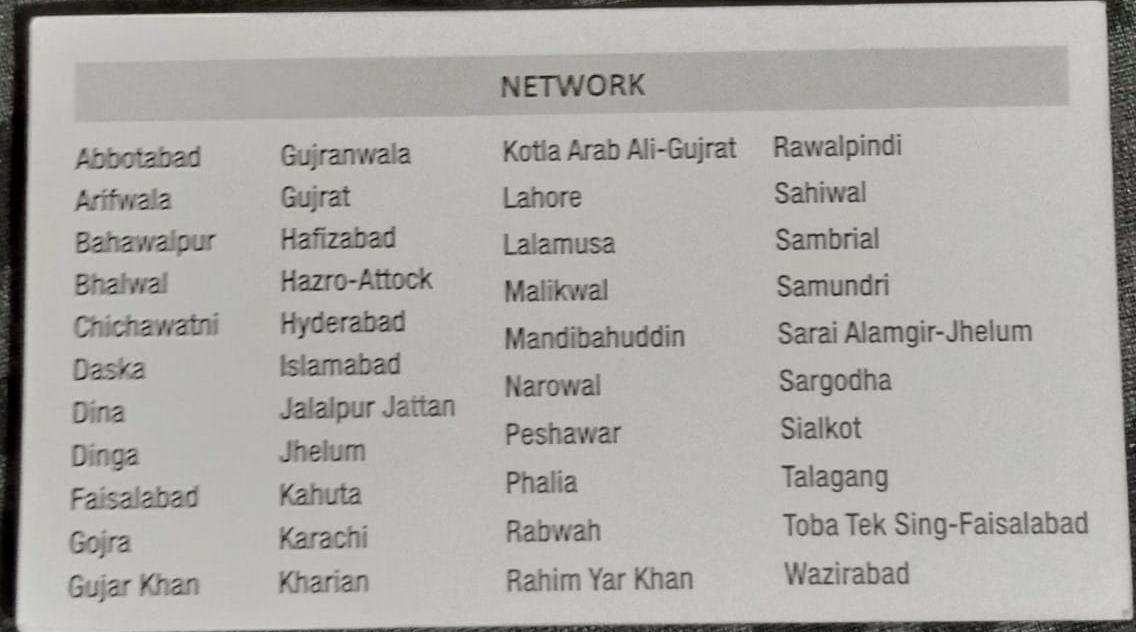alphabetical: (496, 64, 649, 105)
